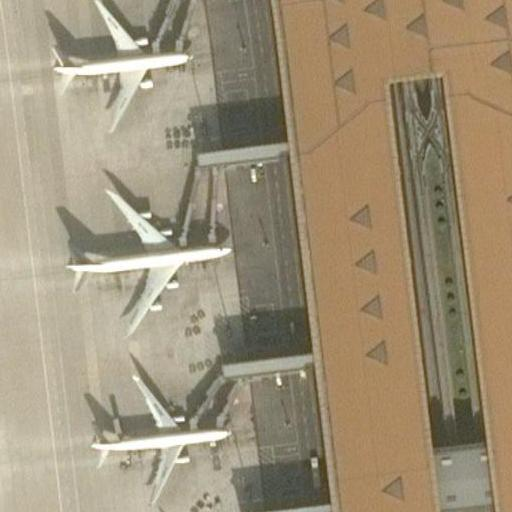Aircraft: (58, 174, 241, 341), (75, 362, 236, 504), (43, 0, 200, 141)
